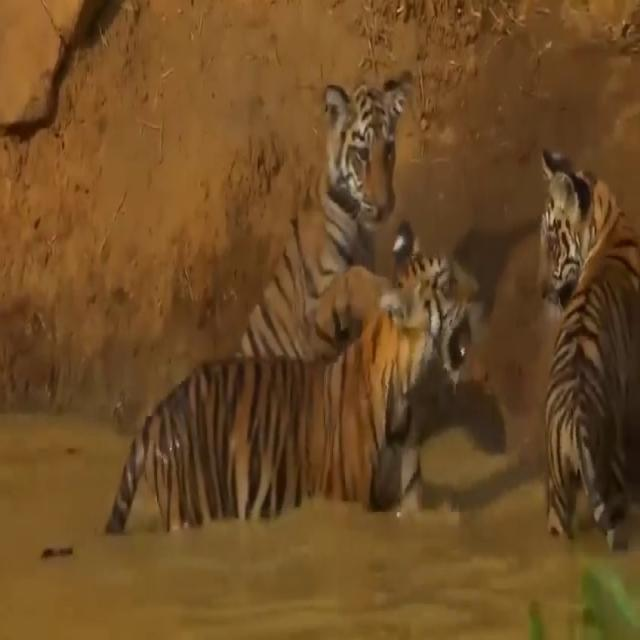tiger: (101, 214, 482, 535), (238, 60, 416, 381), (534, 135, 640, 554)
